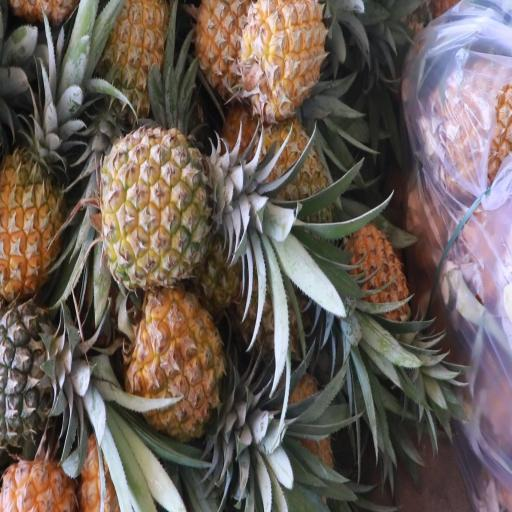Pineapple - v8 v1: (94, 135, 258, 285), (123, 272, 228, 455), (0, 104, 86, 287), (235, 0, 348, 105)
